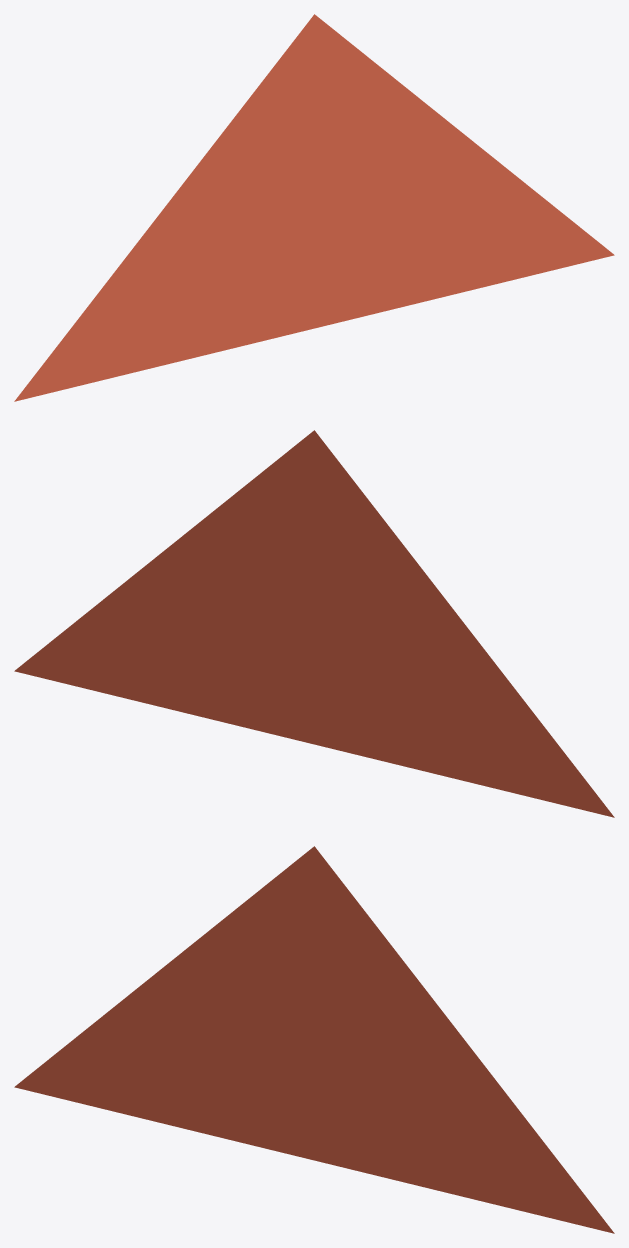
File: minimal.gltf
3 renders of one model, top to bottom at view 1: azimuth 30°, elevation 25°; view 2: azimuth 150°, elevation 25°; view 3: azimuth 330°, elevation 25°, orthographic.
Visible parts, largest first — view 1: Triangle; view 2: Triangle; view 3: Triangle.
Boxes of the visible parts, x1,y1,x2,y2 form: Triangle: (14, 14, 614, 401); Triangle: (14, 430, 614, 817); Triangle: (14, 846, 614, 1233).
Size of the model in its own units: 2 by 1 by 0.
